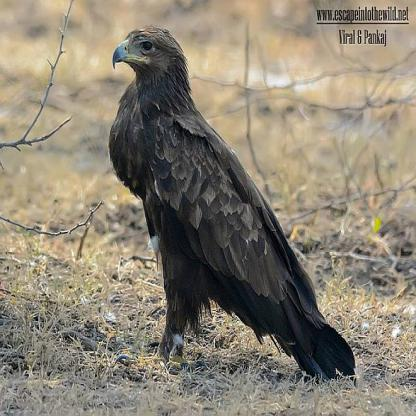Burung: (107, 24, 358, 376)
